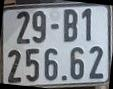-: (52, 25, 58, 29)
.: (62, 76, 66, 80)
1: (82, 8, 91, 41)
2: (8, 50, 21, 82), (90, 47, 103, 78), (17, 11, 29, 44)
5: (26, 49, 39, 81)
6: (71, 47, 84, 79), (45, 48, 57, 81)
9: (33, 11, 46, 43)
B: (64, 10, 77, 41)
